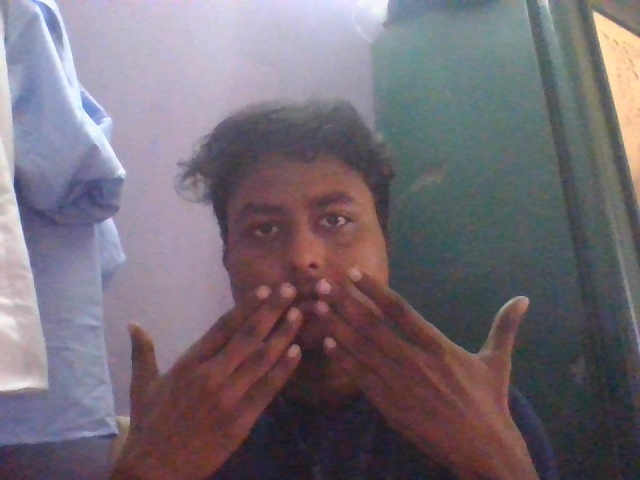thankyou: (106, 250, 549, 480)
